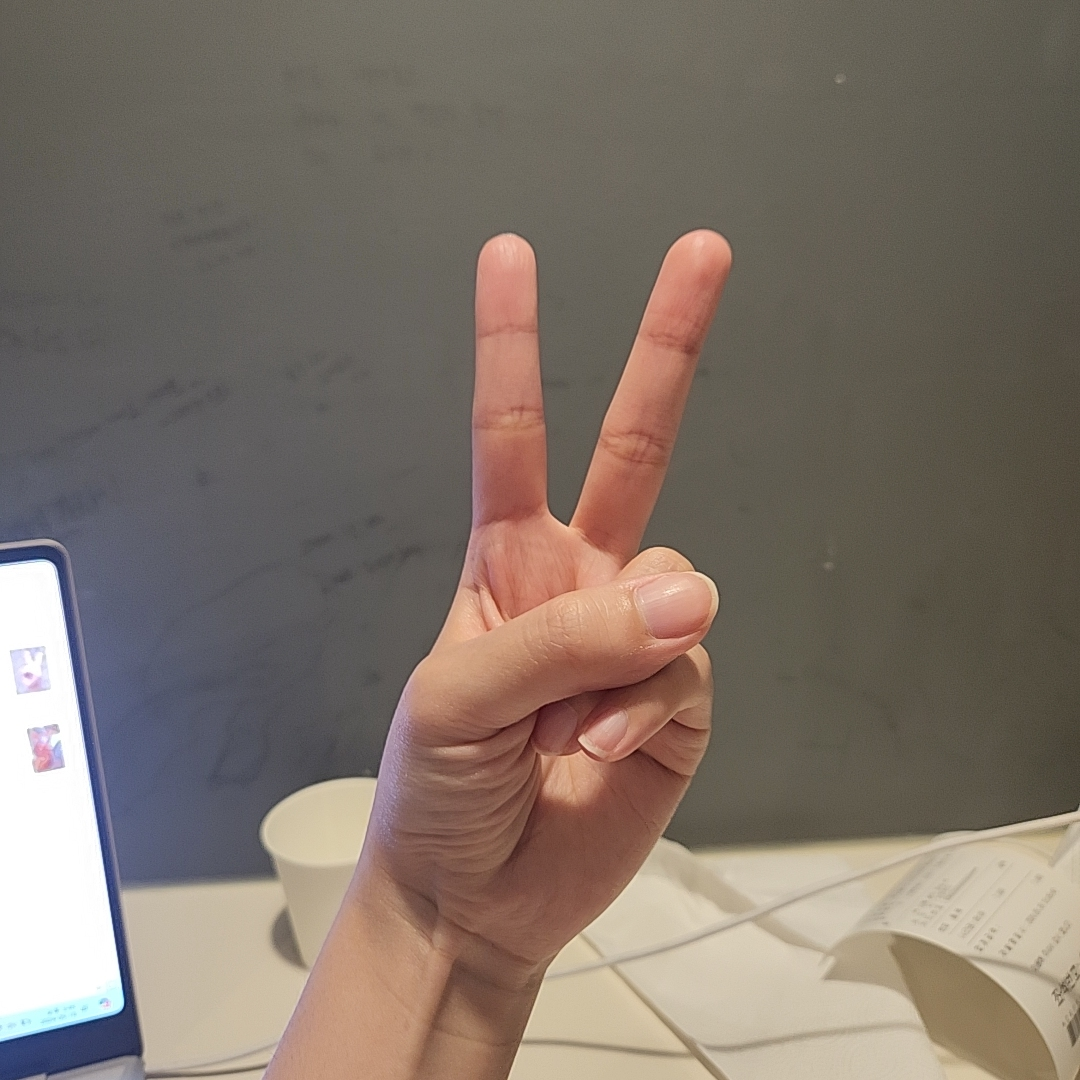peace: (378, 223, 736, 960)
